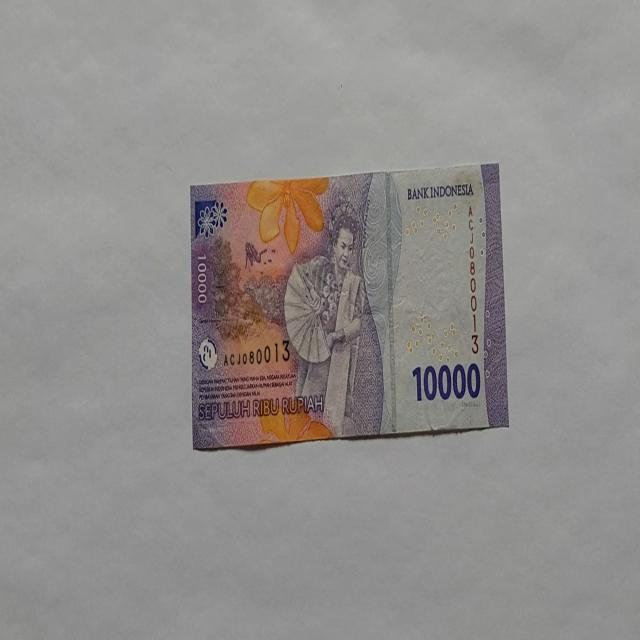sepuluh ribu rupiah: (190, 162, 508, 450), (411, 360, 482, 403)
